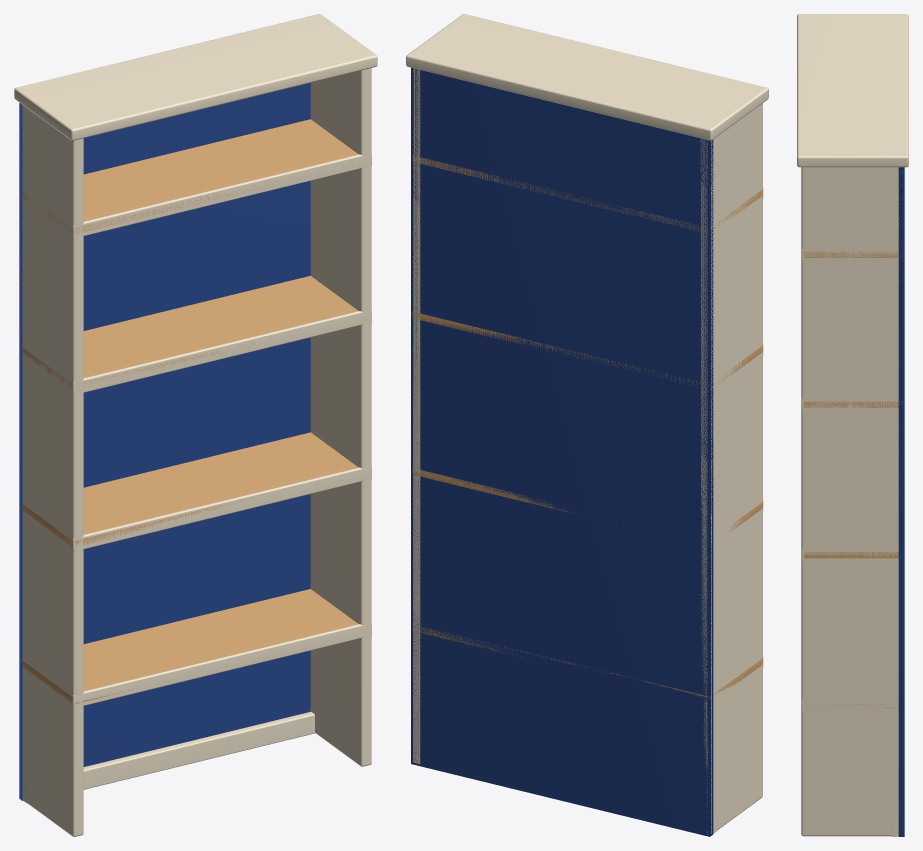
The model's file is toy_shelf.glb.
The picture shows the model from 3 angles, left to right: view 1: azimuth 30°, elevation 25°; view 2: azimuth 150°, elevation 25°; view 3: azimuth 270°, elevation 25°; orthographic projection. The views are drawn at different scales.
Visible parts, largest first — view 1: toy_shelf; view 2: toy_shelf; view 3: toy_shelf.
Boxes of the visible parts, x1=… form: toy_shelf: x1=14, y1=14, x2=377, y2=836; toy_shelf: x1=406, y1=14, x2=768, y2=836; toy_shelf: x1=797, y1=14, x2=908, y2=836.
Bounding box in the file's own units: 16.4 × 36.3 × 5.4.
